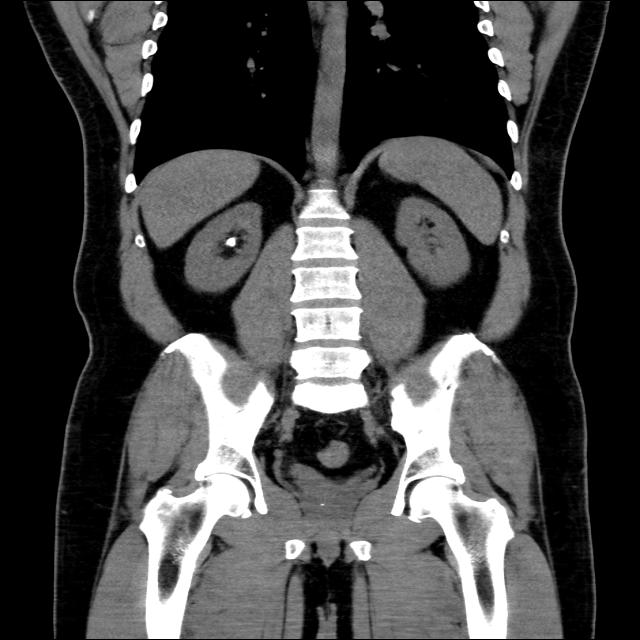kidneystone: (223, 236, 239, 248)
